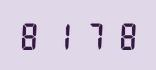eight: (18, 20, 47, 50), (108, 20, 137, 50)
one: (48, 20, 77, 50)
seven: (78, 20, 107, 50)
